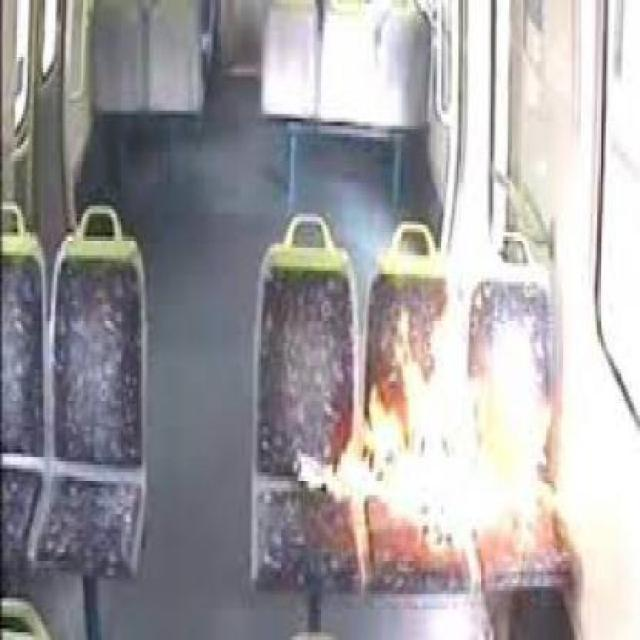Fire: (370, 349, 558, 551), (298, 452, 370, 498)
